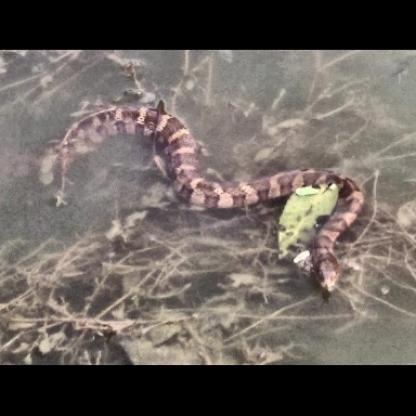Snake: (52, 106, 365, 292)
